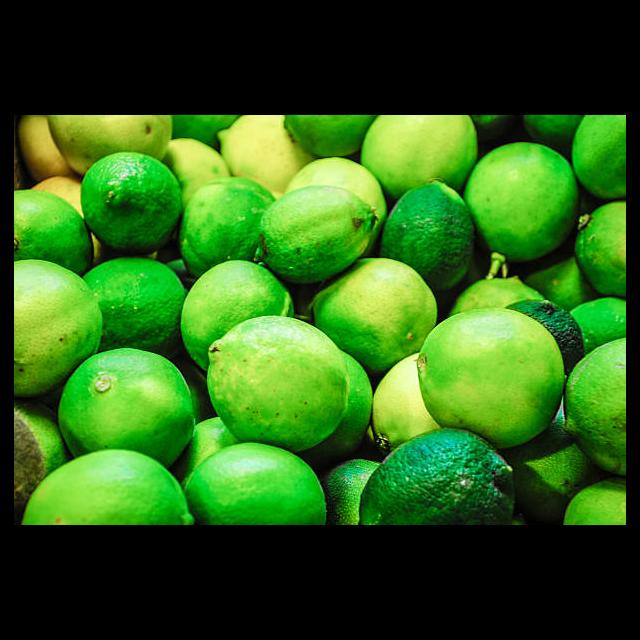lime: (417, 307, 570, 453), (206, 312, 351, 448), (252, 186, 382, 283), (85, 147, 184, 262)
